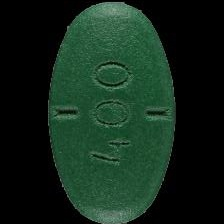10544-626: (0, 0, 224, 224)
